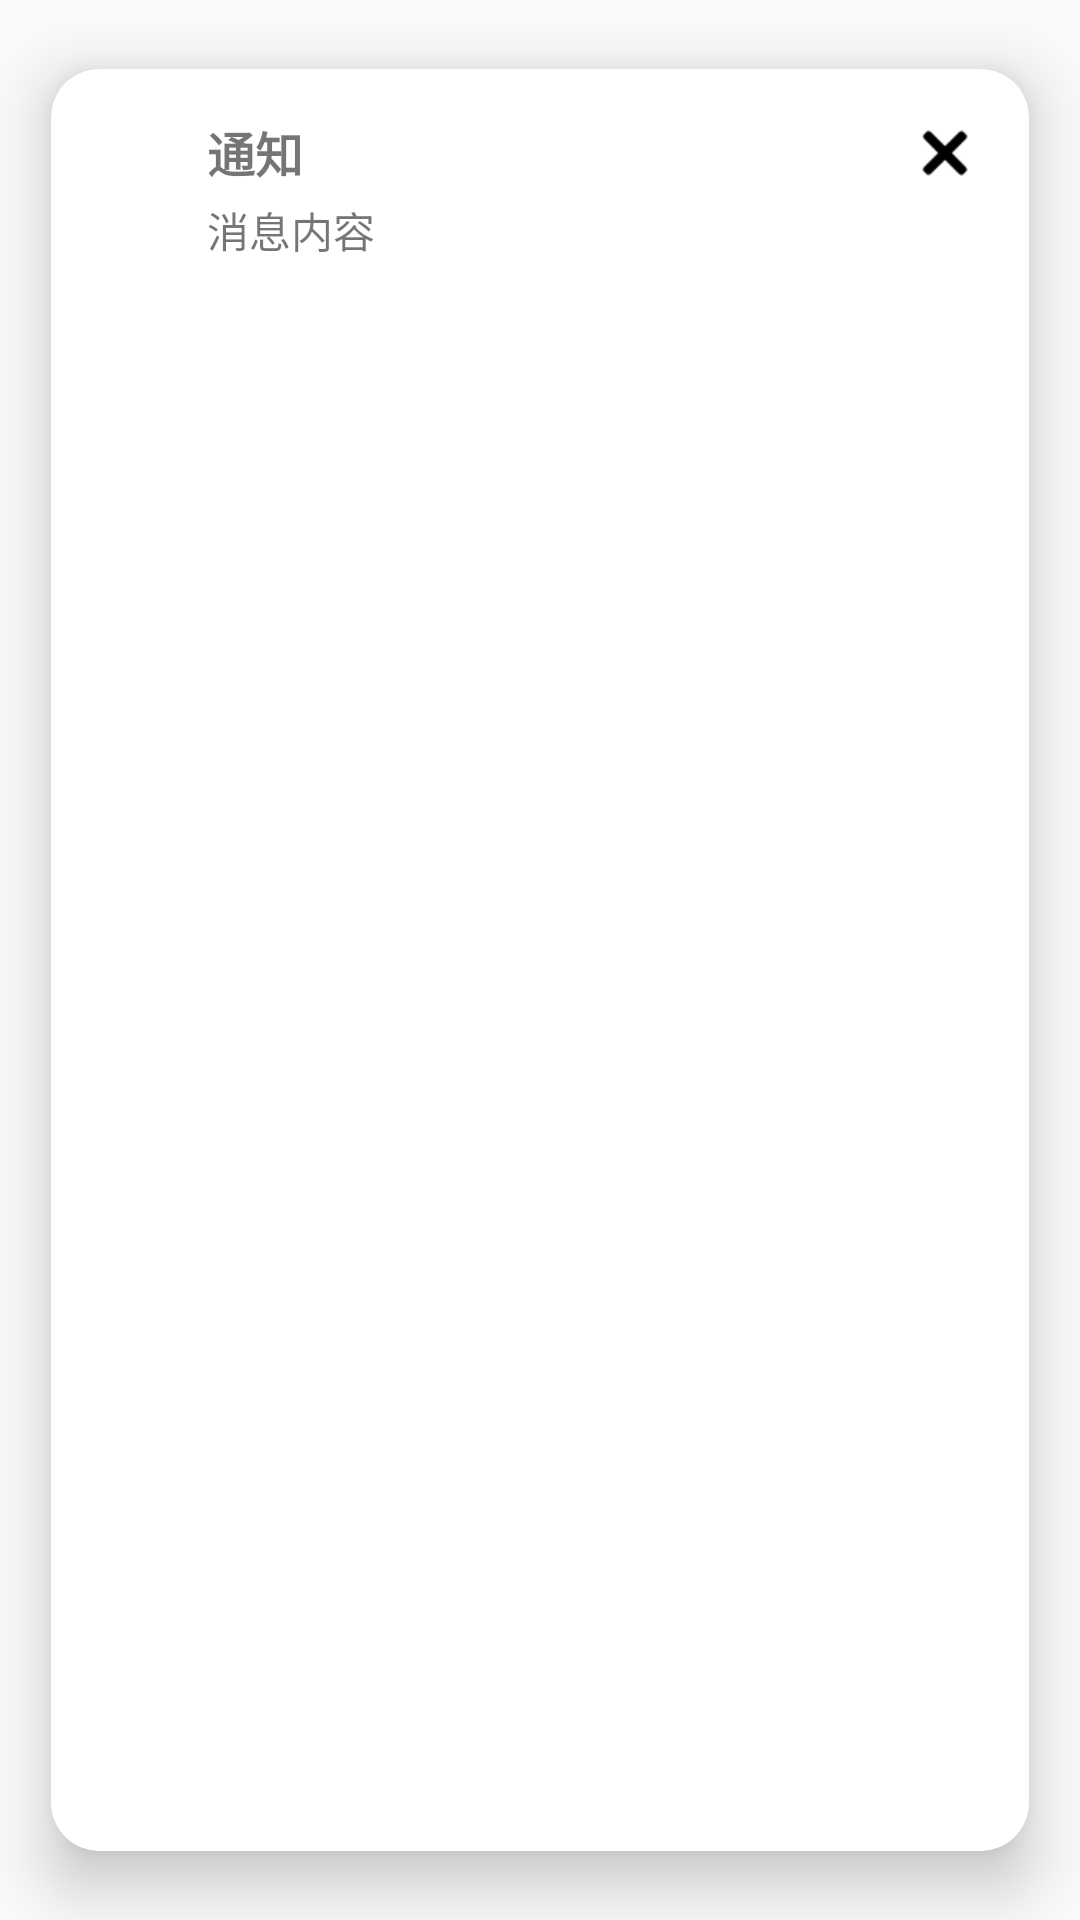

Where icons sit on this 1080x1920 app screen, as [x1=x1, y1=y1, x2=x2, y2=y2]:
toast cancel: [x1=922, y1=130, x2=968, y2=176]
